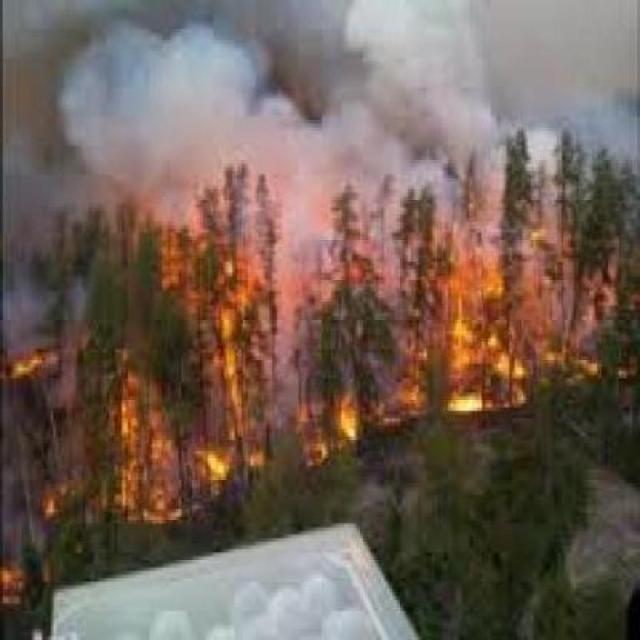Fire: (155, 209, 632, 414), (3, 231, 145, 584), (152, 428, 271, 510)
